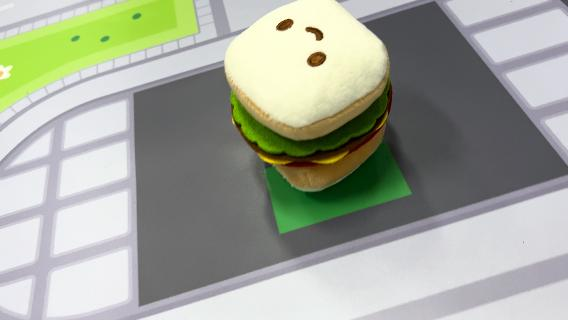sandwich: (222, 1, 396, 193)
